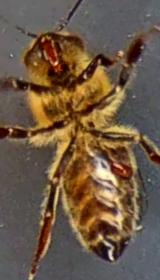varroa_mite: (101, 154, 151, 182)
